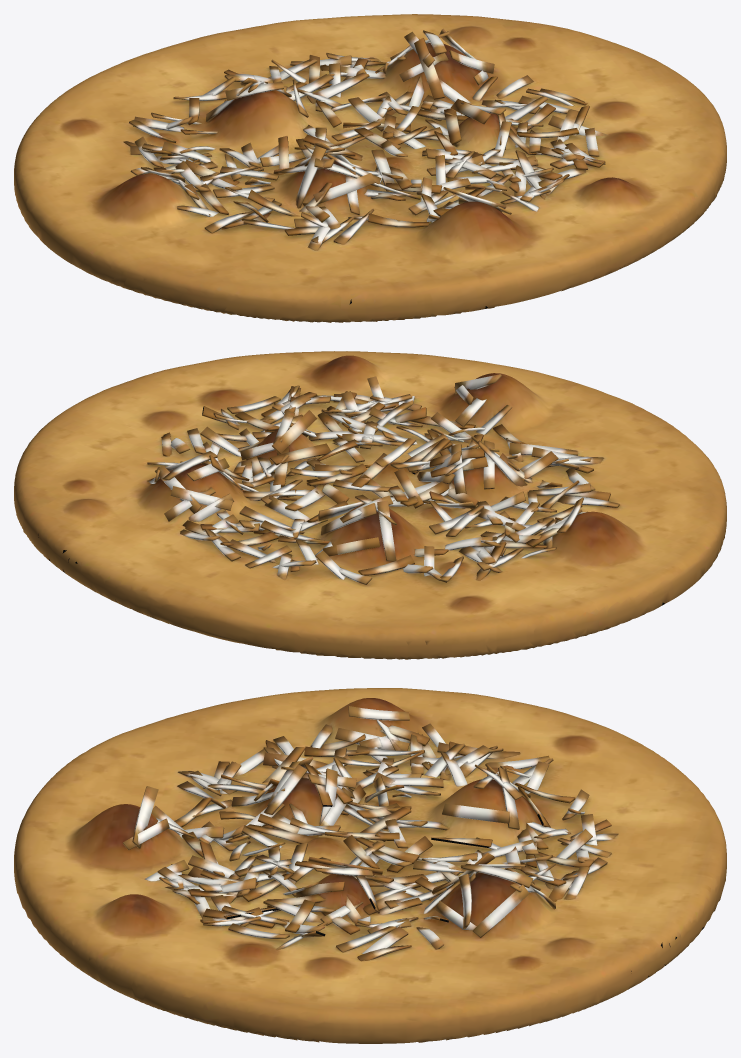
File: flatbread--coconut-dried.glb
3 renders of one model, top to bottom at view 1: azimuth 30°, elevation 25°; view 2: azimuth 150°, elevation 25°; view 3: azimuth 270°, elevation 25°, orthographic. The views are drawn at different scales.
Parts seen in each view (by area): view 1: flatbread_coconut-dried; view 2: flatbread_coconut-dried; view 3: flatbread_coconut-dried.
Part boxes in pixels (x1,y1,x2,y2): flatbread_coconut-dried: (14,14,726,322); flatbread_coconut-dried: (14,351,726,659); flatbread_coconut-dried: (14,688,726,1043).
Bounding box in the file's own units: 0.9981 × 0.1156 × 0.9017.
Materials: 1 (1 with a texture image).
